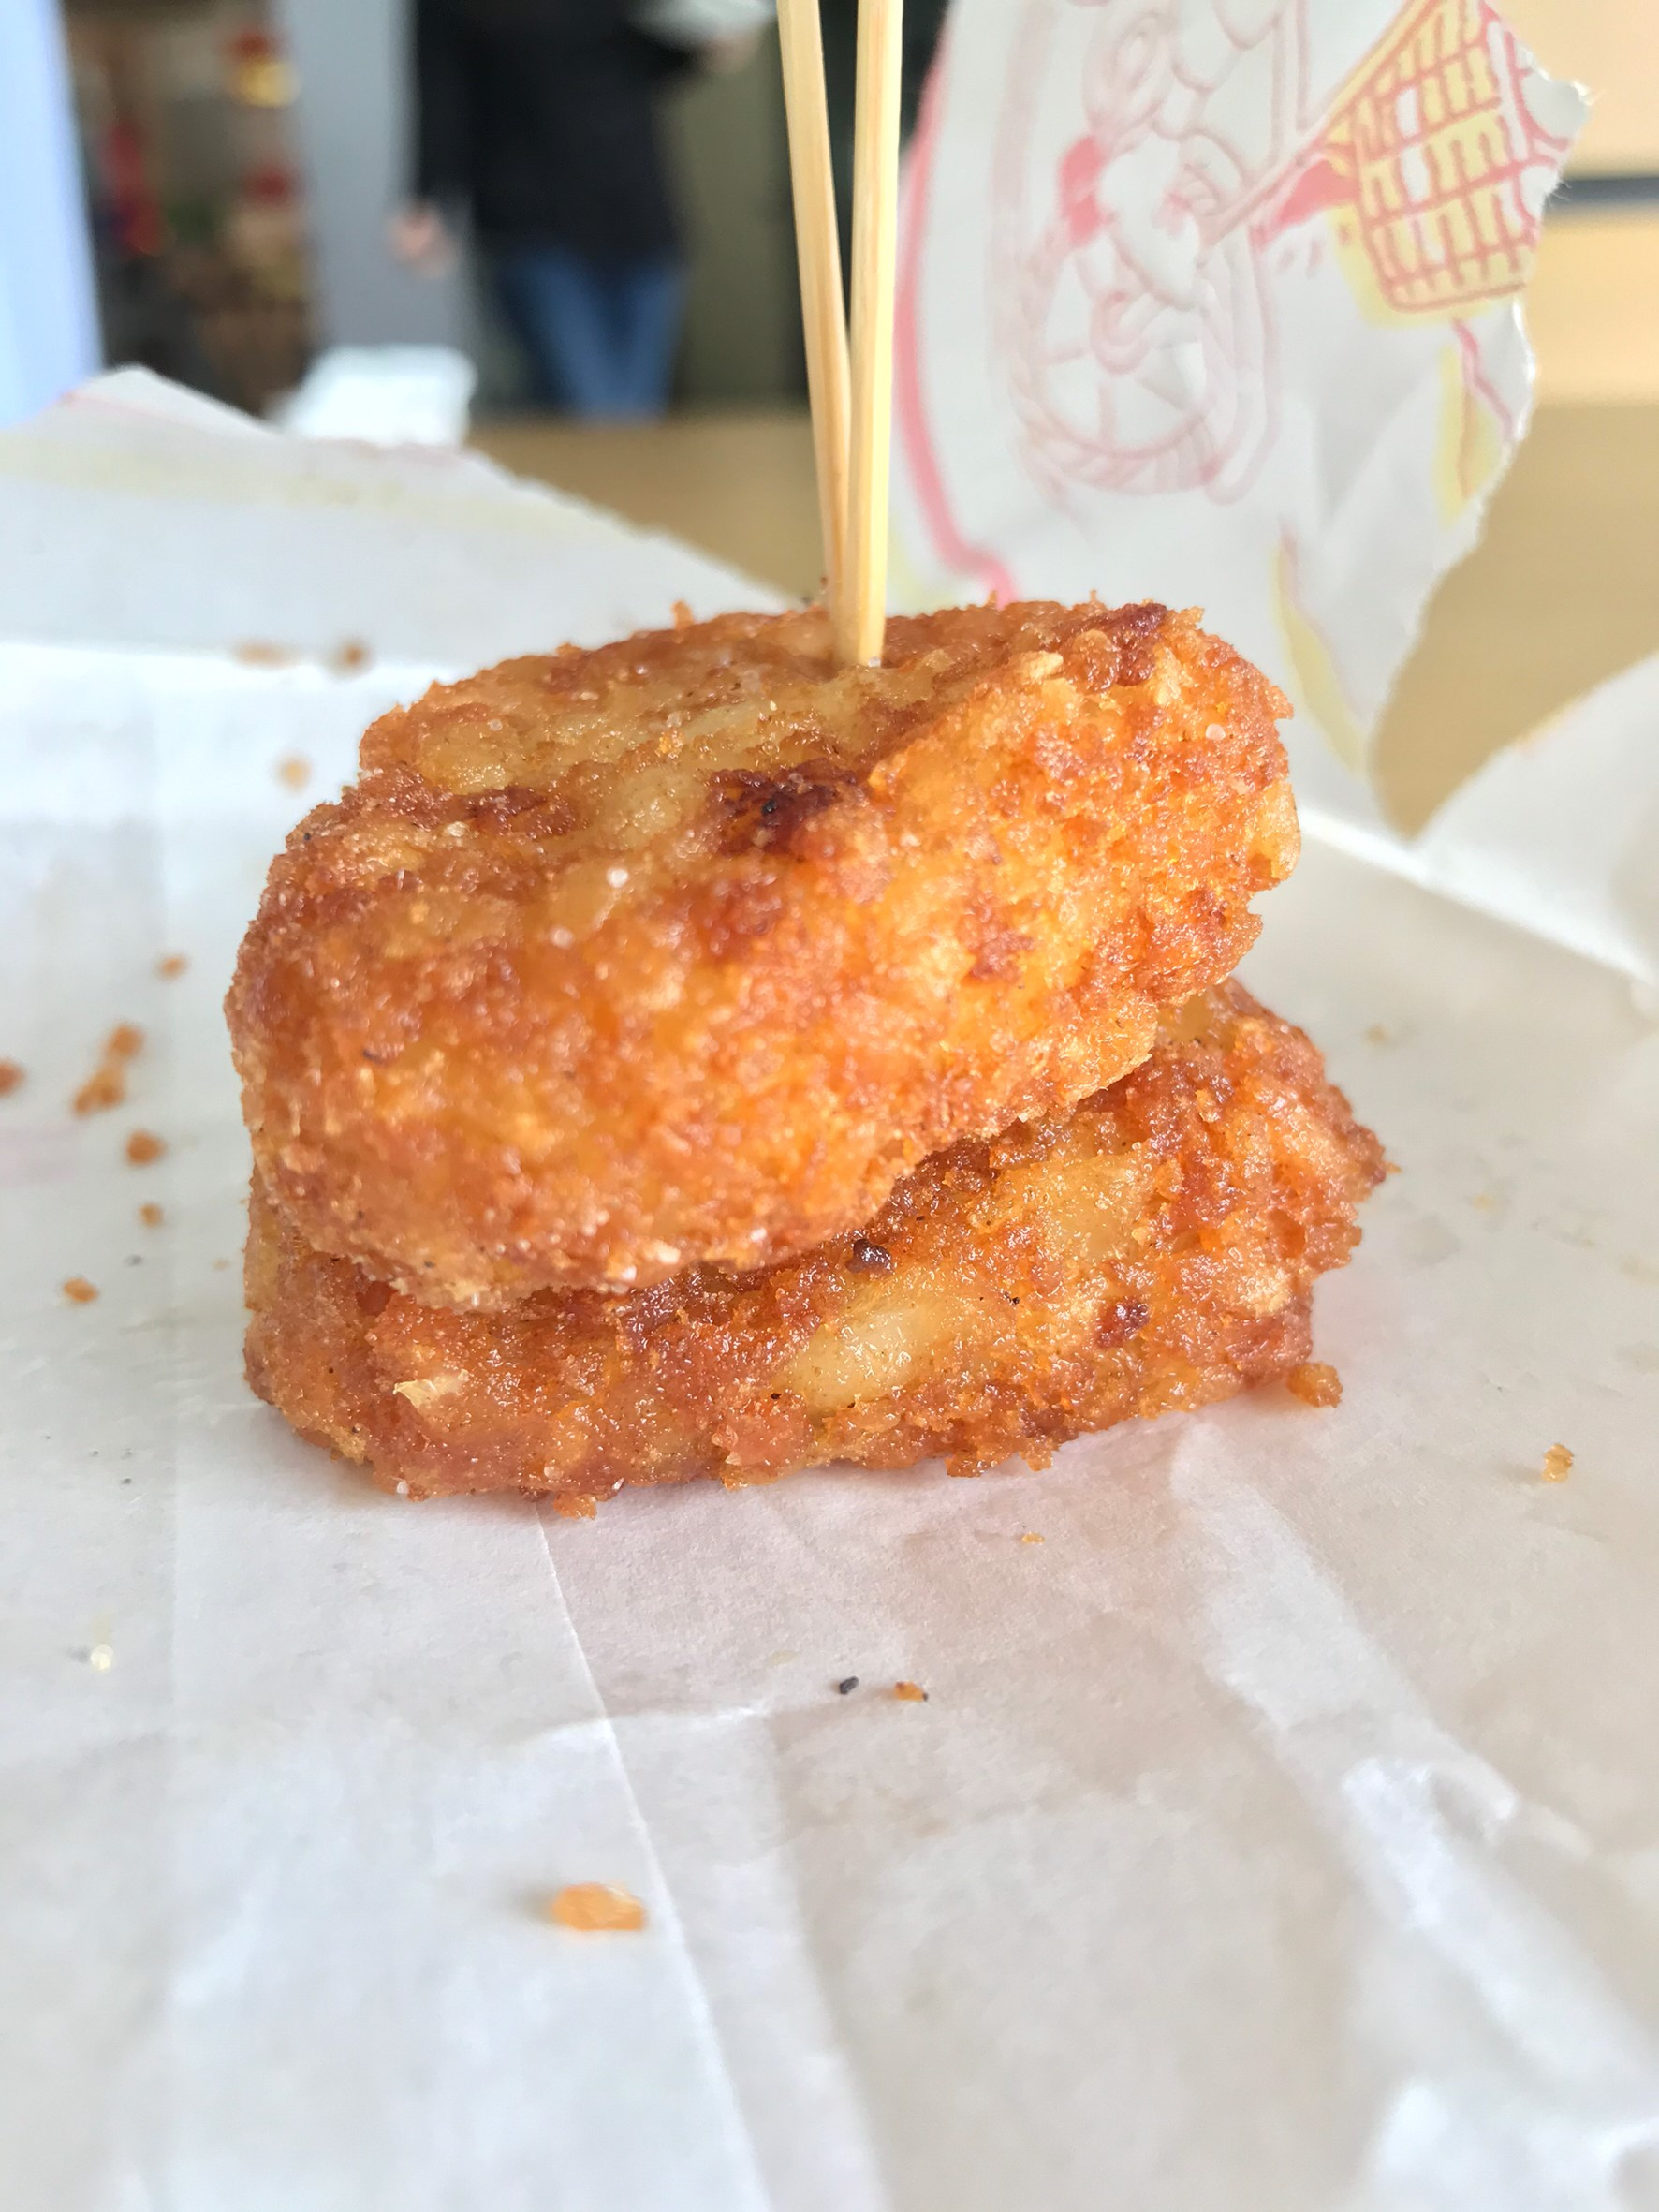triangle_hash_brown: (251, 631, 1340, 1506)
